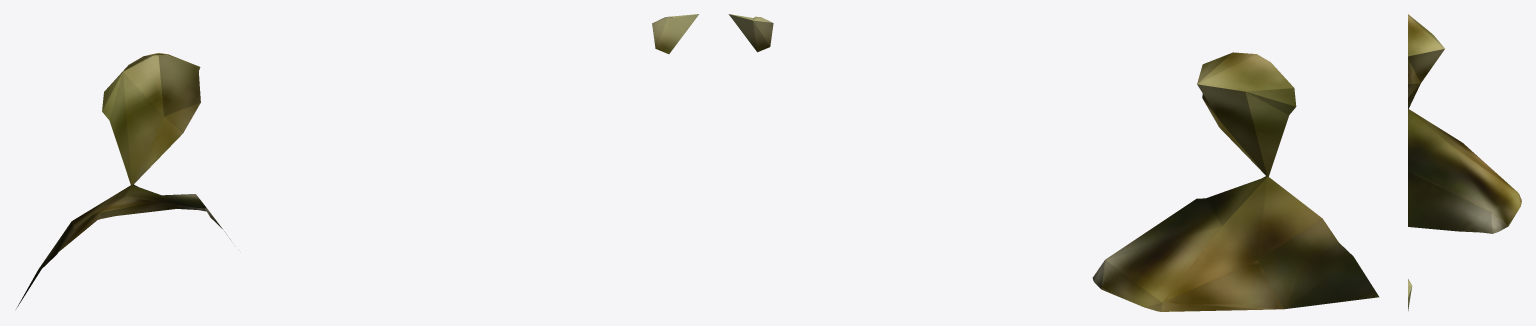
3 renders of one model, left to right at view 1: azimuth 30°, elevation 25°; view 2: azimuth 150°, elevation 25°; view 3: azimuth 270°, elevation 25°, orthographic. The views are drawn at different scales.
Bounding box in the file's own units: 0.8948 × 0.28 × 0.1666.
1 material, 1 textured.
